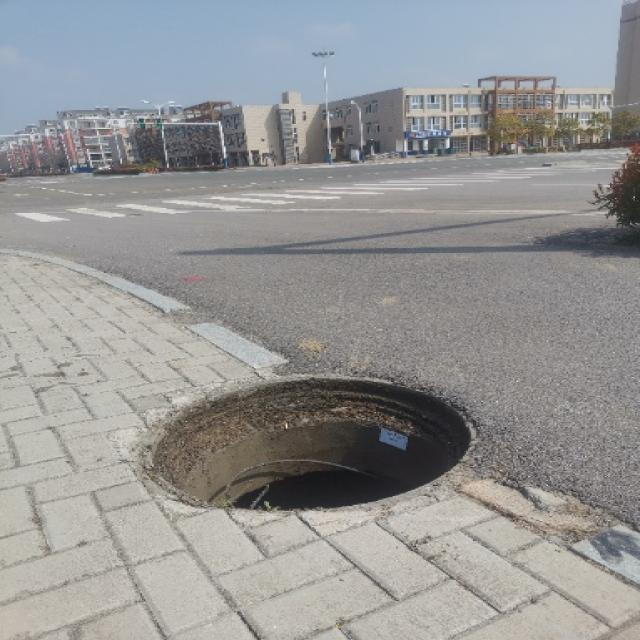Faulty: (115, 375, 502, 526)
